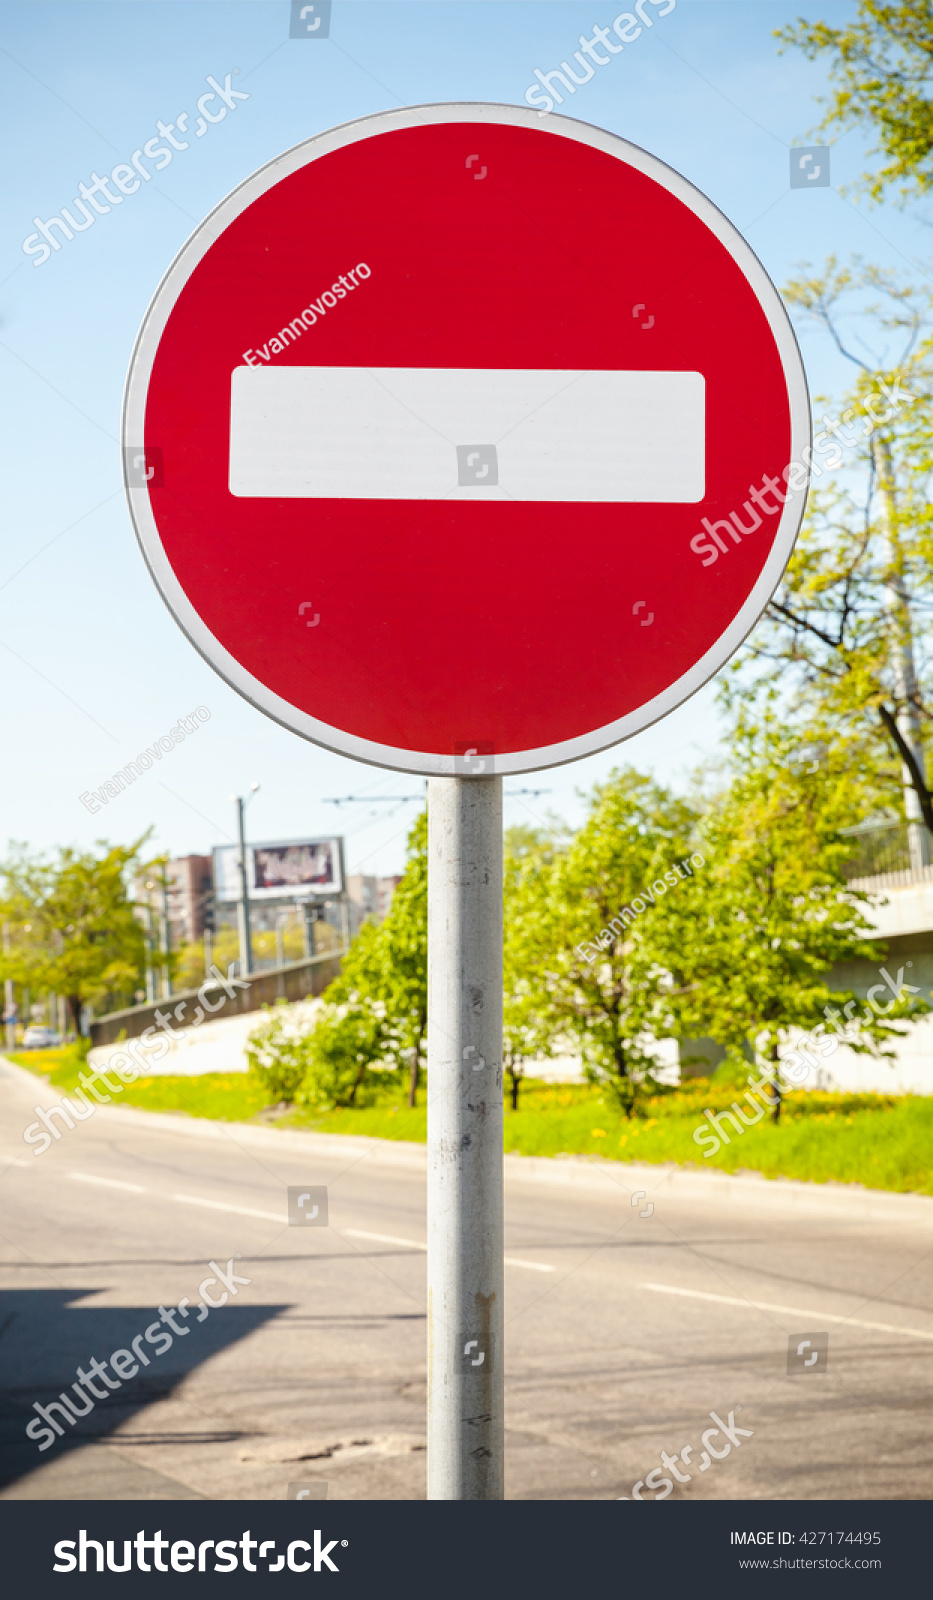No_entry: (117, 98, 814, 782)
